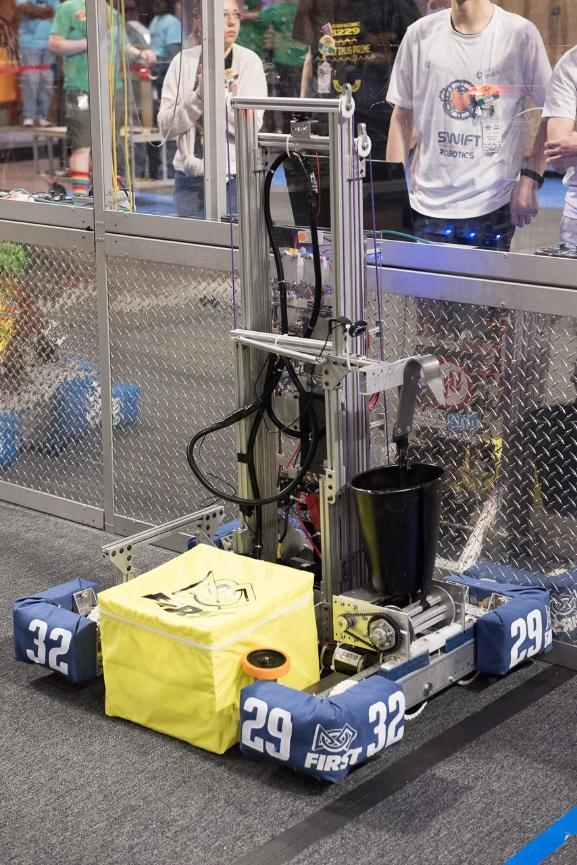robot: (11, 92, 558, 788)
